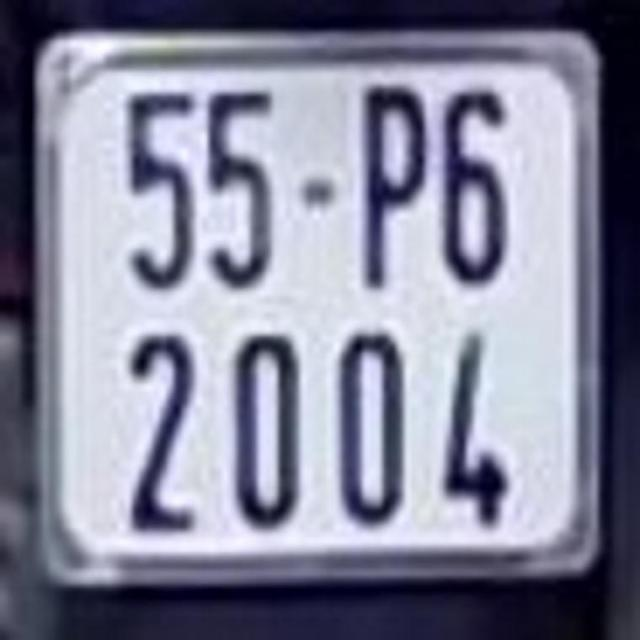0: (331, 311, 415, 531), (225, 313, 308, 530)
2: (115, 314, 205, 530)
4: (439, 316, 513, 534)
5: (200, 65, 280, 290), (117, 70, 198, 292)
6: (438, 68, 519, 302)
P: (350, 63, 430, 291)
